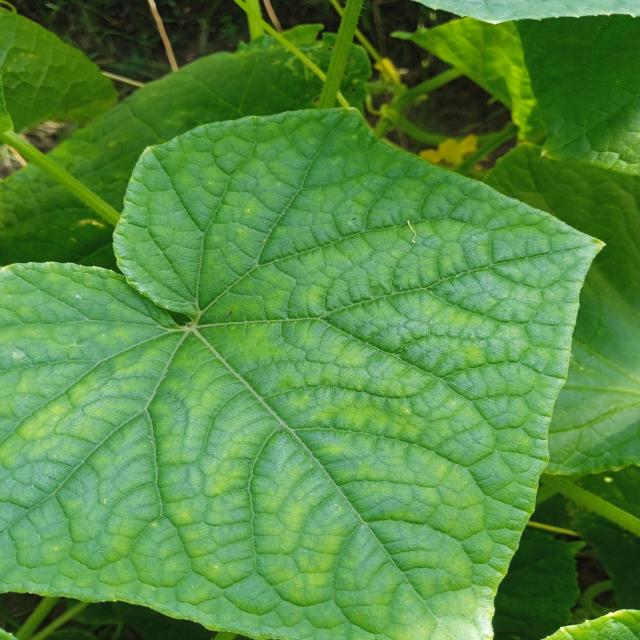cucumber_healthy: (1, 101, 608, 640), (387, 5, 640, 177)
